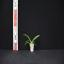leaf: (23, 34, 32, 43), (31, 35, 40, 43), (25, 40, 31, 45), (33, 43, 36, 46), (27, 42, 30, 44), (32, 41, 34, 44), (30, 43, 31, 45)
